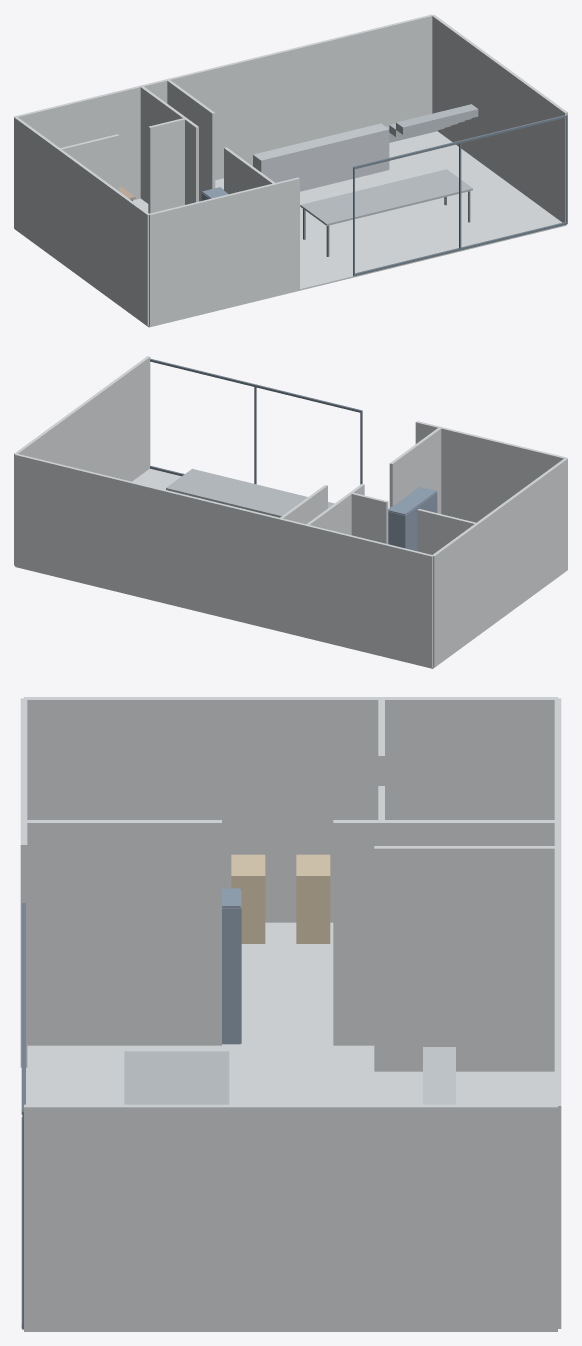
3 renders of one model, top to bottom at view 1: azimuth 30°, elevation 25°; view 2: azimuth 150°, elevation 25°; view 3: azimuth 270°, elevation 25°, orthographic. The views are drawn at different scales.
Parts seen in each view (by area): view 1: walls, floor, fixtures (×3), frame; view 2: walls, fixtures (×2), frame, floor; view 3: walls, floor, fixtures (×4), frame.
Part boxes in pixels (<box>): walls: <box>14,14,567,326</box>; floor: <box>31,131,566,327</box>; fixtures (×3): <box>253,104,478,225</box>; frame: <box>353,115,567,276</box>; walls: <box>14,356,567,667</box>; fixtures (×2): <box>166,468,437,550</box>; frame: <box>150,358,362,484</box>; floor: <box>15,468,557,668</box>; walls: <box>20,697,561,1330</box>; floor: <box>24,922,557,1331</box>; fixtures (×4): <box>124,854,455,1104</box>; frame: <box>21,903,25,1329</box>.
Bounding box in the file's own units: 10.07 × 2.58 × 5.61.
